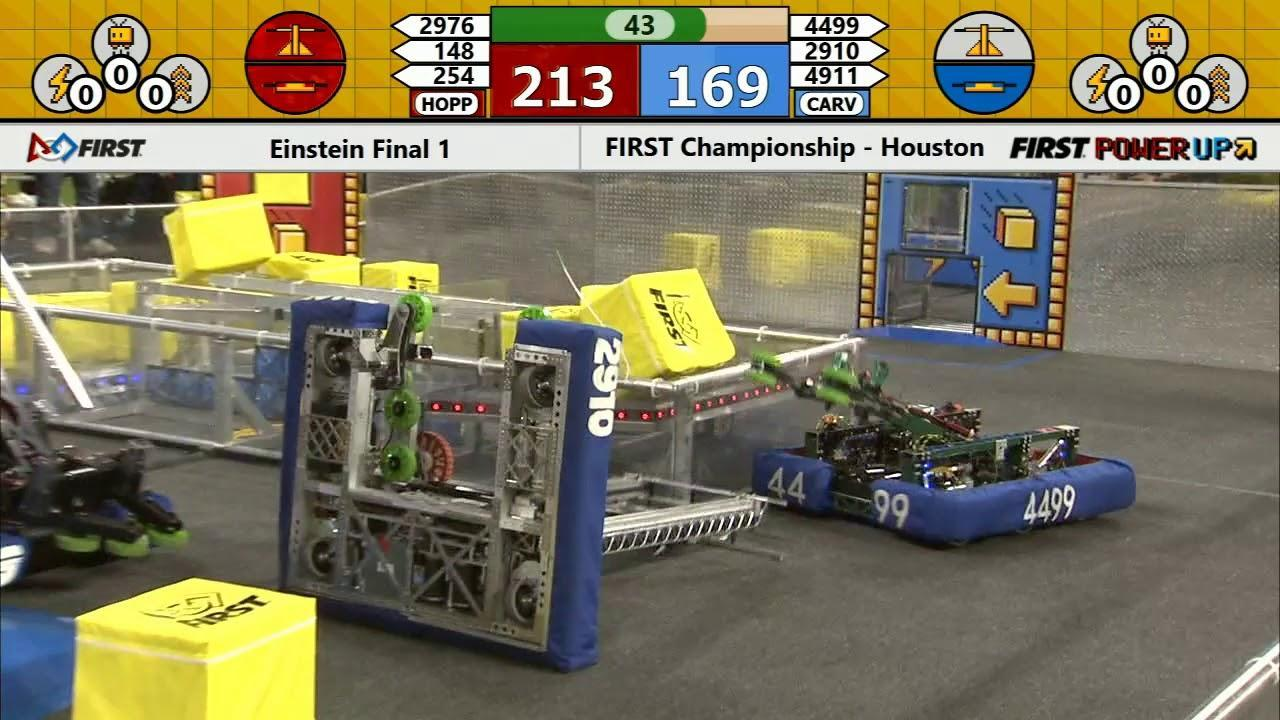robot: (270, 283, 788, 681), (744, 347, 1146, 551), (0, 327, 193, 598)
